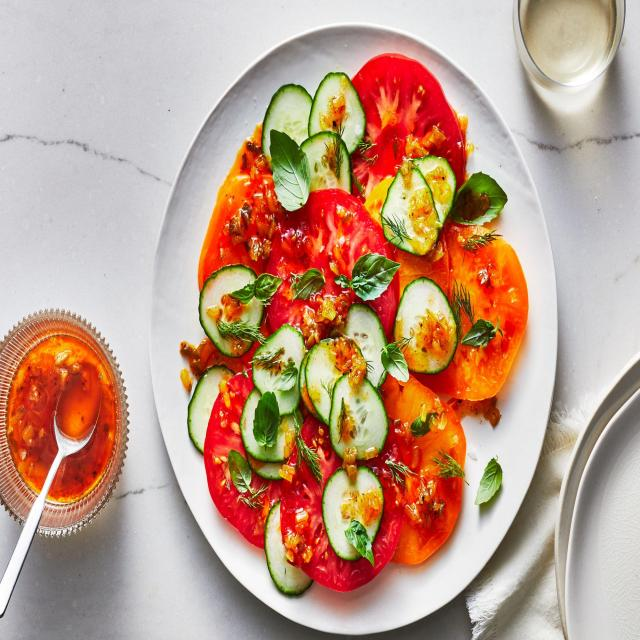Tomato: (266, 200, 396, 324), (355, 62, 473, 176)
